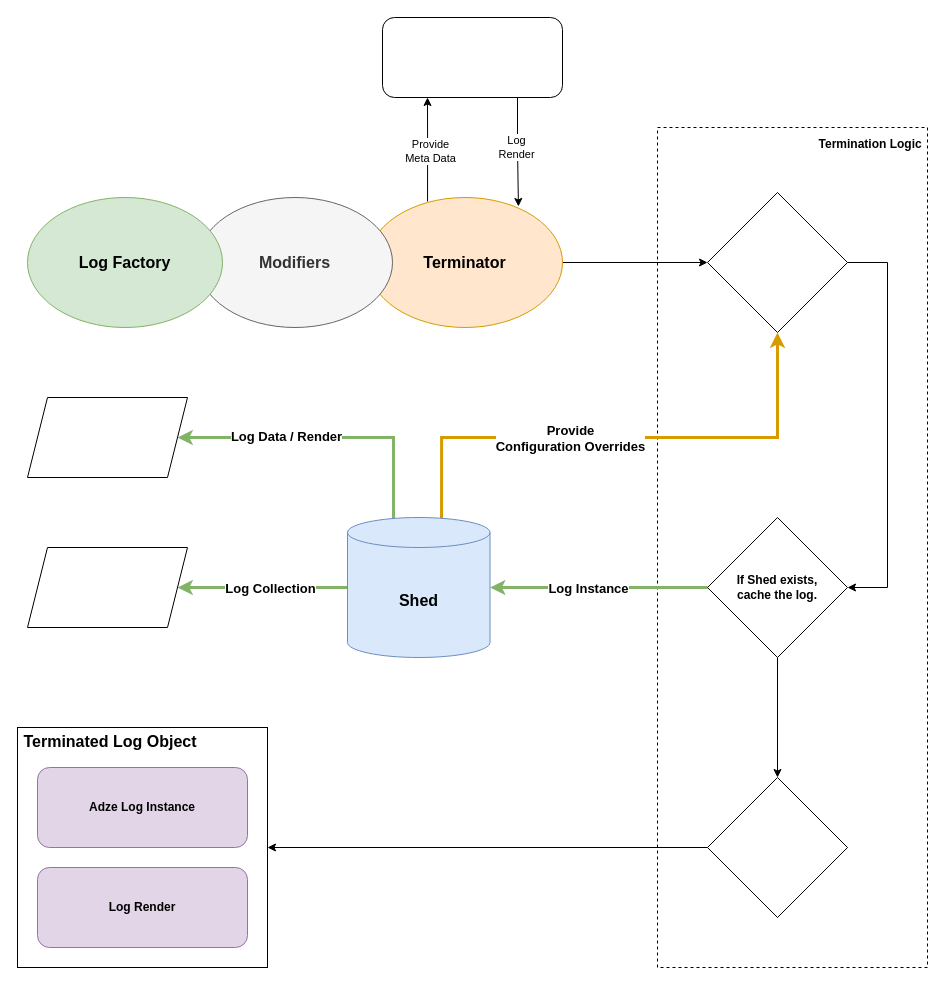
Image size: 945x993. Some labels were removed from this diagram. The shapes that lost their labels are listed below. From the top down, each one's centre as x and y in pixels, then its label:
(x=472, y=57): Printer
(x=777, y=262): Write to Console or Ignore based on Config
(x=107, y=437): Log Listeners
(x=107, y=587): Recall & Filter Logs
(x=777, y=847): Return the Terminated Log Object
